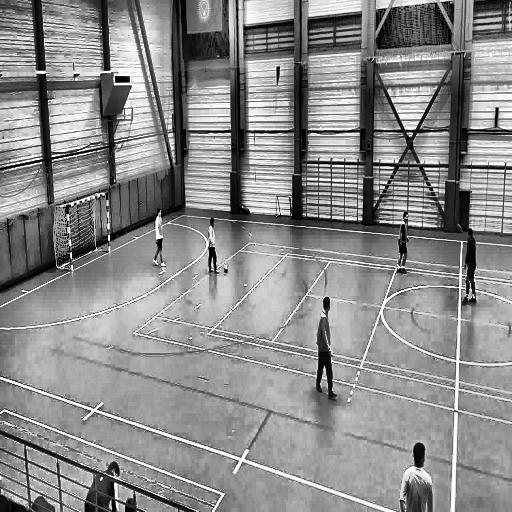ball: (223, 262, 229, 277)
player: (314, 293, 339, 407), (462, 227, 478, 308), (151, 208, 167, 270), (207, 214, 220, 278), (398, 208, 409, 279)
